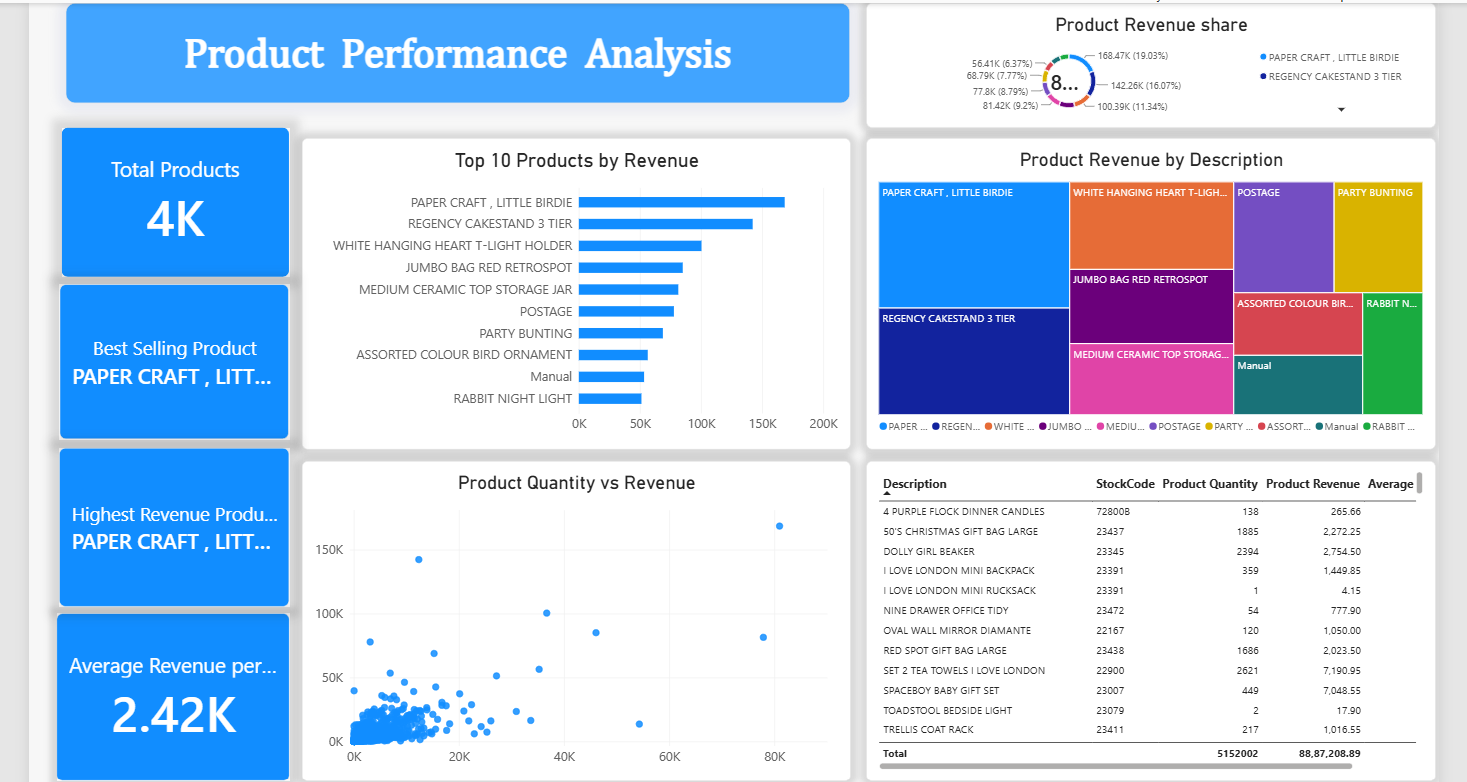

The dashboard page shown, as its layout file describes it:
{"tool":"powerbi","page":{"name":"Product Performance Analysis","canvas":[1920,1080],"ordinal":2},"visuals":[{"type":"textbox","box":[196,0,922.1,76.5],"z":0},{"type":"cardVisual","fields":{"Data":["SQL_sales.Total Products"]},"box":[0,95.2,309.9,164.3],"z":1000},{"type":"clusteredBarChart","title":"Top 10 Products by Revenue","fields":{"Category":["ecommerce_cleaned csv.Description"],"Y":["SQL_sales.Product Revenue"]},"box":[13.1,283.7,976.3,397.6],"z":2000},{"type":"donutChart","title":"Product Revenue share","fields":{"Category":["ecommerce_cleaned csv.Description"],"Y":["SQL_sales.Product Revenue"]},"box":[1306.7,0,614.1,259.5],"z":3000},{"type":"cardVisual","fields":{"Data":["SQL_sales.Average Revenue per Product"]},"box":[989.3,95.2,317.3,162.4],"z":4000},{"type":"cardVisual","fields":{"Data":["SQL_sales.Best Selling Product"]},"box":[322.9,95.2,315.5,164.3],"z":5000},{"type":"cardVisual","fields":{"Data":["SQL_sales.Highest Revenue Product"]},"box":[653.3,97.1,322.9,160.5],"z":6000},{"type":"scatterChart","title":"Product Quantity vs Revenue","fields":{"Category":["ecommerce_cleaned csv.Description"],"X":["SQL_sales.Product Quantity"],"Y":["SQL_sales.Product Revenue"]},"box":[13.1,681.3,976.3,392],"z":7000},{"type":"treemap","fields":{"Group":["ecommerce_cleaned csv.Description"],"Values":["SQL_sales.Product Revenue"]},"box":[1008,283.7,907.2,397.6],"z":8000},{"type":"tableEx","fields":{"Values":["ecommerce_cleaned csv.Description","ecommerce_cleaned csv.StockCode","SQL_sales.Product Quantity","SQL_sales.Product Revenue","SQL_sales.Average Selling Price"]},"box":[1008,681.3,907.2,392],"z":9000}]}

Visuals, with their boxes on the page's 1920x1080 design canvas (x1, y1, x2, y2). These are canvas units, not pixel positions in the 1467x782 screenshot, which may show the page scaled, cropped or inside an application window:
textbox: bbox=[196, 0, 1118, 76]
cardVisual - SQL_sales.Total Products: bbox=[0, 95, 310, 260]
"Top 10 Products by Revenue" clusteredBarChart: bbox=[13, 284, 989, 681]
"Product Revenue share" donutChart: bbox=[1307, 0, 1921, 260]
cardVisual - SQL_sales.Average Revenue per Product: bbox=[989, 95, 1307, 258]
cardVisual - SQL_sales.Best Selling Product: bbox=[323, 95, 638, 260]
cardVisual - SQL_sales.Highest Revenue Product: bbox=[653, 97, 976, 258]
"Product Quantity vs Revenue" scatterChart: bbox=[13, 681, 989, 1073]
treemap - ecommerce_cleaned csv.Description x SQL_sales.Product Revenue: bbox=[1008, 284, 1915, 681]
tableEx - ecommerce_cleaned csv.Description x ecommerce_cleaned csv.StockCode: bbox=[1008, 681, 1915, 1073]
